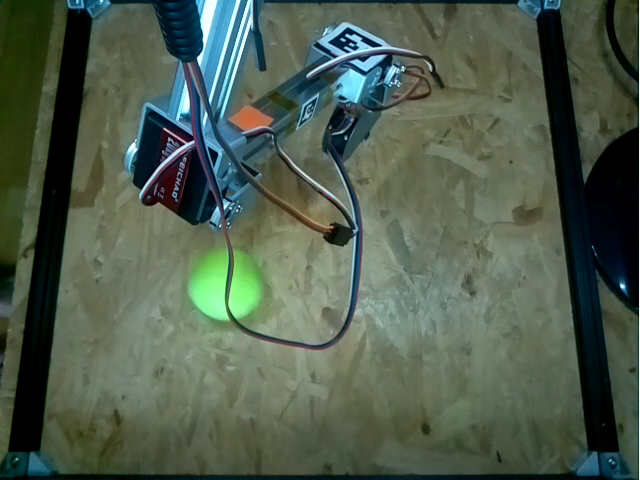tennis_ball: (185, 247, 263, 321)
